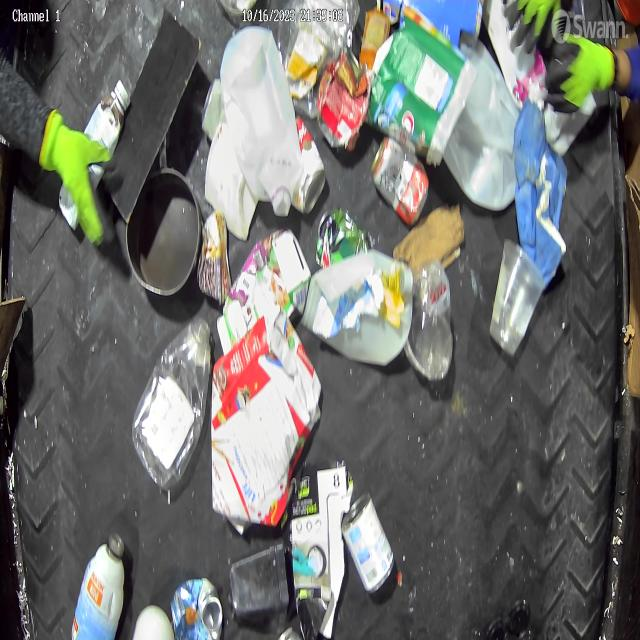can: (342, 490, 396, 598), (370, 136, 431, 230), (319, 44, 372, 152), (289, 114, 327, 216), (314, 206, 370, 272), (196, 209, 233, 307), (170, 574, 223, 640)
milk_jug: (219, 23, 304, 221), (442, 32, 522, 212)
non_white_jug: (131, 314, 213, 493)
